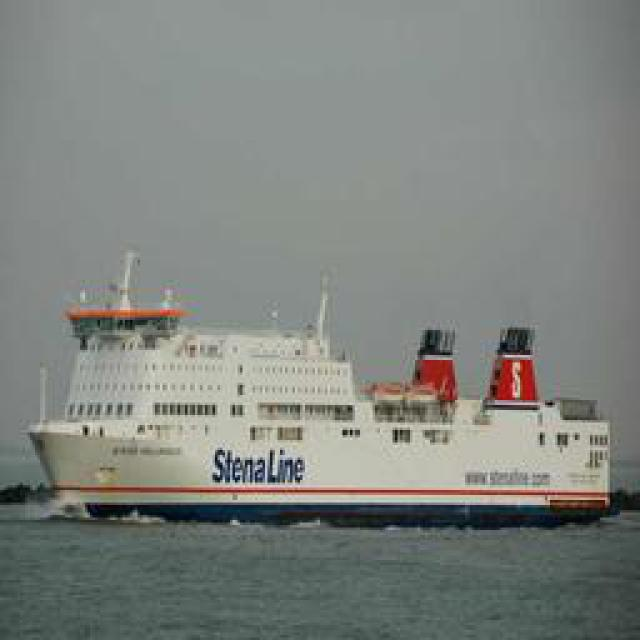Ship: (21, 263, 624, 531)
